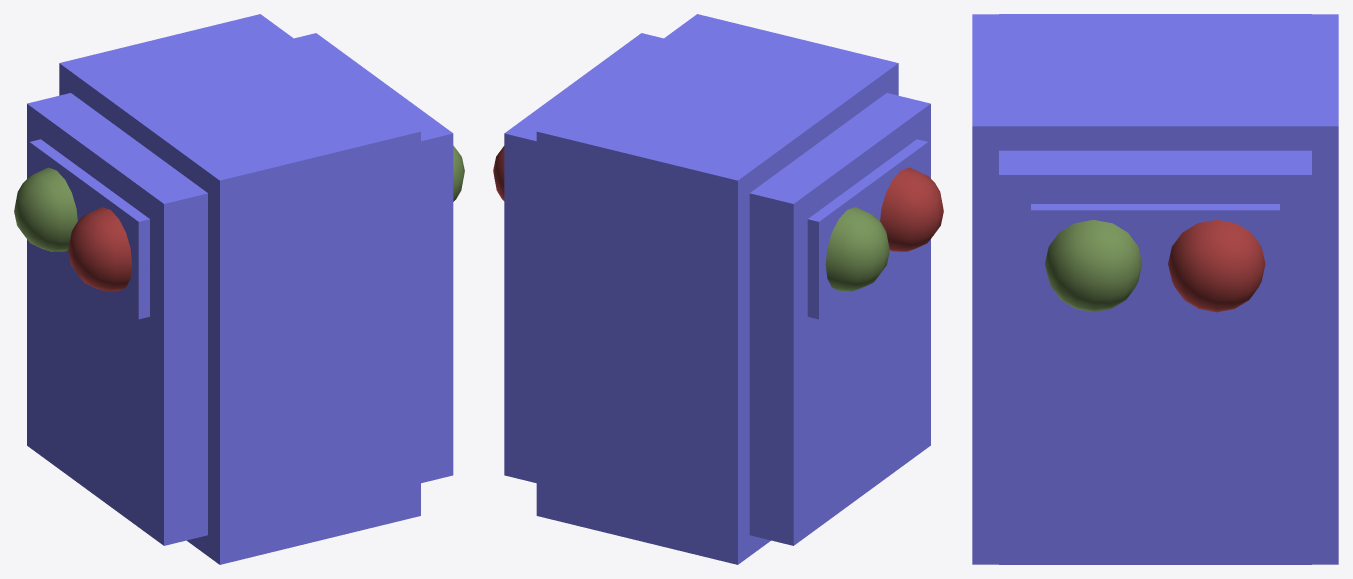
File: SM_Dummy_Doorlock.fbx
The picture shows the model from 3 angles, left to right: view 1: azimuth 30°, elevation 25°; view 2: azimuth 150°, elevation 25°; view 3: azimuth 270°, elevation 25°; orthographic projection. The views are drawn at different scales.
Parts seen in each view (by area): view 1: SM_Dummy_Doorlock; view 2: SM_Dummy_Doorlock; view 3: SM_Dummy_Doorlock.
Part boxes in pixels (<box>): SM_Dummy_Doorlock: <box>14,14,464,564</box>; SM_Dummy_Doorlock: <box>493,14,943,564</box>; SM_Dummy_Doorlock: <box>972,14,1338,564</box>.
Bounding box in the file's own units: 30.38 × 21.91 × 28.92.
Materials: 2 (2 with a texture image).
